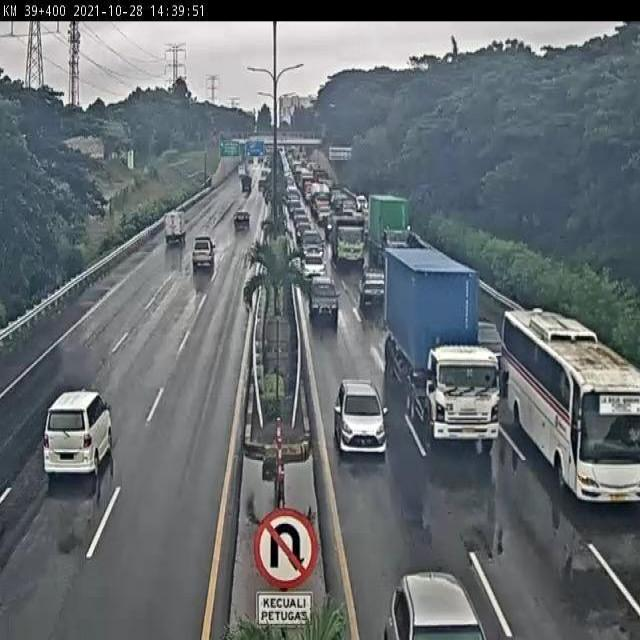big bus: (505, 307, 640, 505)
big truck: (387, 250, 500, 447), (369, 193, 411, 263), (330, 213, 367, 267)
car: (43, 392, 114, 473), (335, 379, 389, 452), (475, 318, 505, 366), (309, 277, 337, 324), (360, 271, 387, 304), (192, 237, 215, 271), (301, 229, 326, 260), (302, 255, 327, 281)
small truck: (164, 210, 185, 242)
